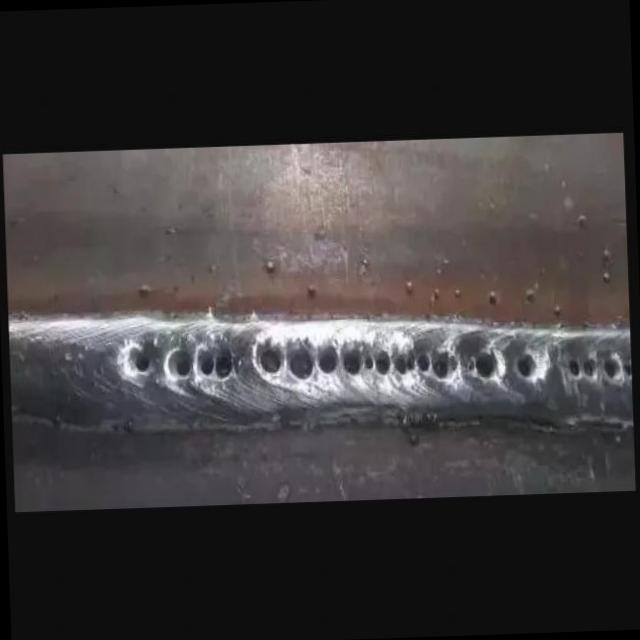defect: (255, 342, 462, 385), (161, 340, 238, 385), (568, 354, 631, 383), (471, 347, 498, 389), (514, 352, 537, 384), (128, 346, 153, 372)
